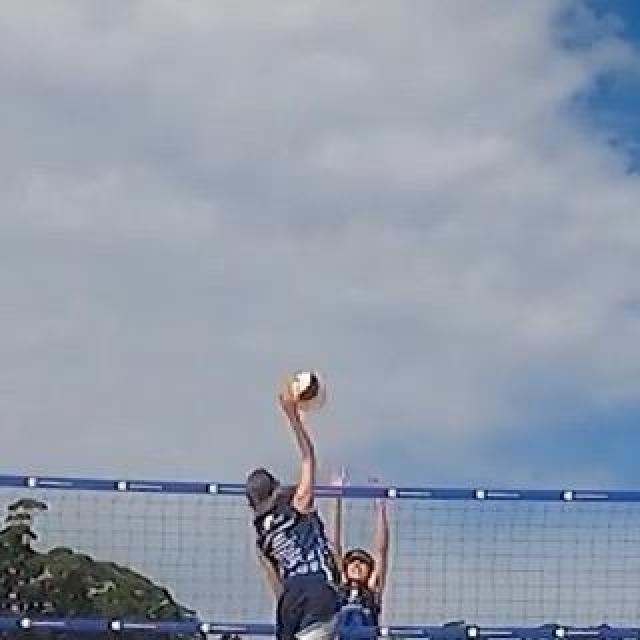volleyball: (291, 372, 325, 410)
